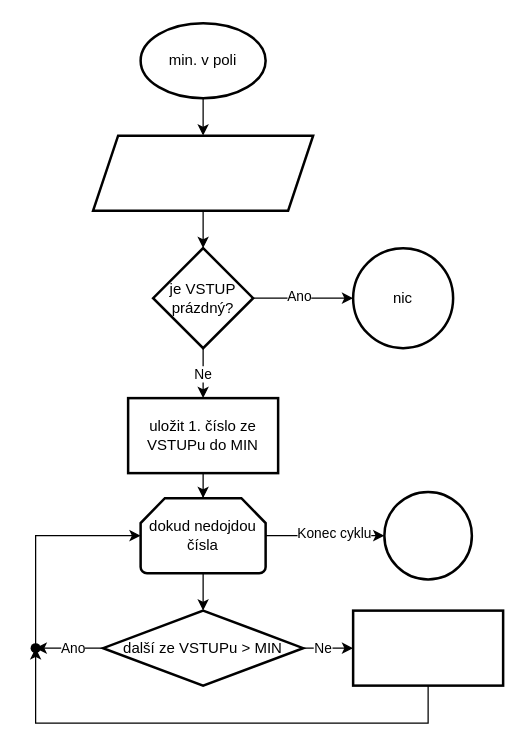
Image size: 525x755. Some labels were removed from this diagram. The centre of each missing label's shape, as x and y in pixels:
"MIN" belongs at pixel 427 535.
"MIN = porovnávané číslo ze vstupu" belongs at pixel 427 647.
"VSTUP -seznam N čísel" belongs at pixel 202 172.
